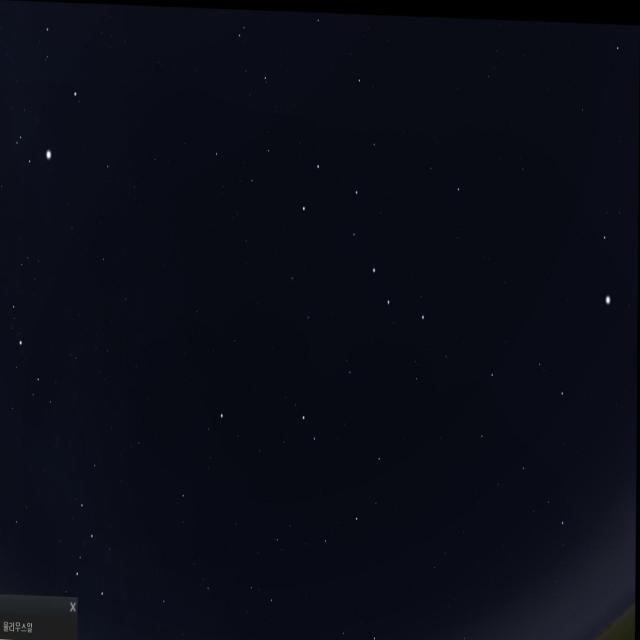cassiopeia: (60, 436, 122, 608)
ursa_major: (300, 157, 428, 328)
